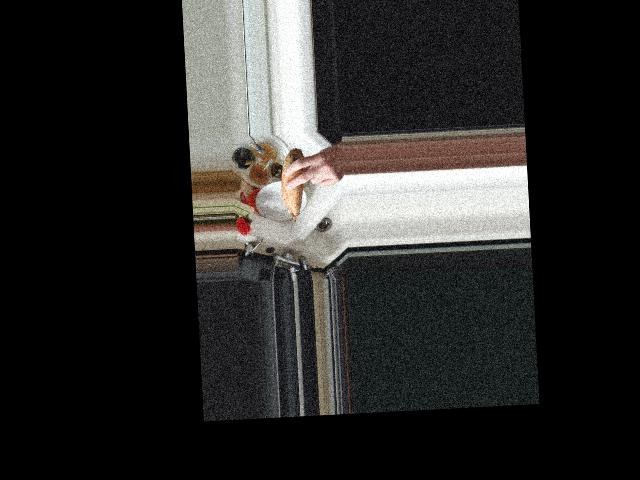sweet_potato: (280, 145, 311, 225)
